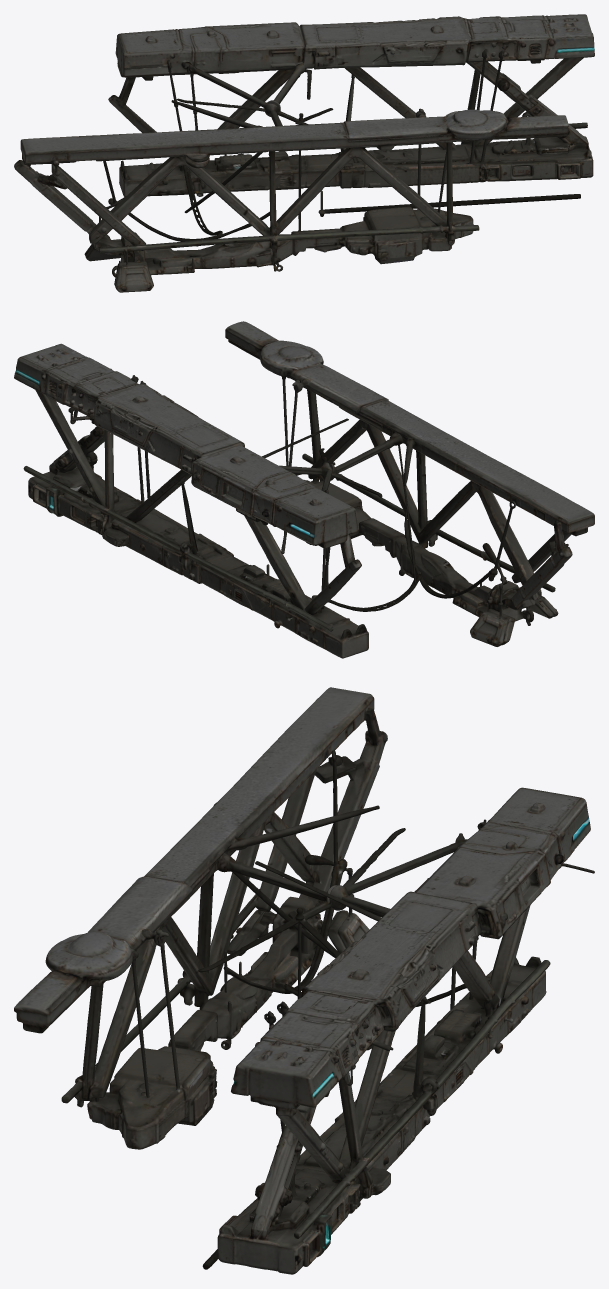
File: overhead_struts.glb
3 views of the same model, one above another, from view 1: azimuth 30°, elevation 25°; view 2: azimuth 150°, elevation 25°; view 3: azimuth 270°, elevation 25° (orthographic). The views are drawn at different scales.
Parts seen in each view (by area): view 1: tripo_node_d6c369c6-fa75-430d-a140-cc5b4dd1ce9a; view 2: tripo_node_d6c369c6-fa75-430d-a140-cc5b4dd1ce9a; view 3: tripo_node_d6c369c6-fa75-430d-a140-cc5b4dd1ce9a.
Boxes of the visible parts, box(x1,y1,x2,y2) form: tripo_node_d6c369c6-fa75-430d-a140-cc5b4dd1ce9a: box(14, 14, 594, 292); tripo_node_d6c369c6-fa75-430d-a140-cc5b4dd1ce9a: box(14, 321, 594, 658); tripo_node_d6c369c6-fa75-430d-a140-cc5b4dd1ce9a: box(14, 687, 594, 1274).
Bounding box in the file's own units: 0.982 × 0.2771 × 0.5965.
1 material, 1 textured.
